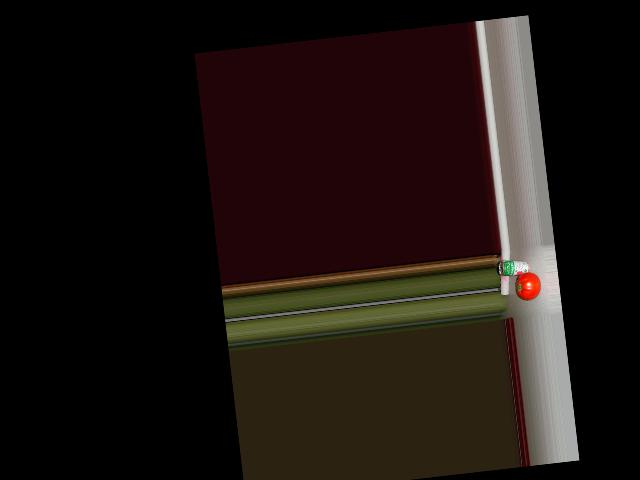tomato: (515, 271, 542, 301)
